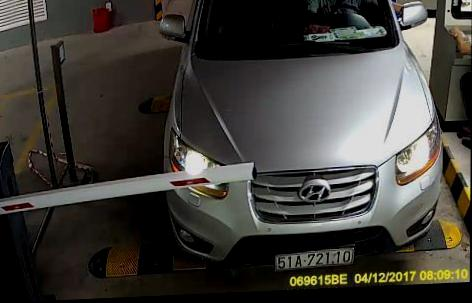License_Plate: (274, 244, 352, 272)
